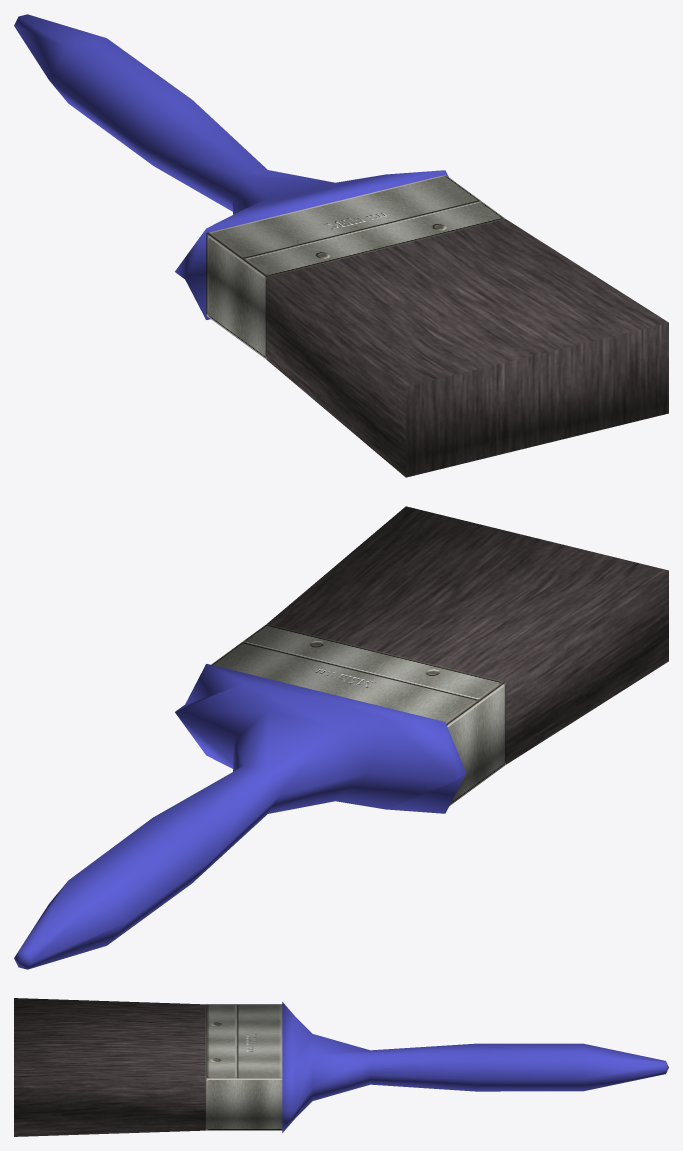
Rendered from Brush.fbx.
3 views of the same model, one above another, from view 1: azimuth 30°, elevation 25°; view 2: azimuth 150°, elevation 25°; view 3: azimuth 270°, elevation 25° (orthographic). The views are drawn at different scales.
Visible parts, largest first — view 1: Brush, BrushHandle, BrushBase; view 2: Brush, BrushHandle, BrushBase; view 3: Brush, BrushHandle, BrushBase.
Boxes of the visible parts, bbox=[...] form: Brush: bbox=[266, 219, 668, 477]; BrushHandle: bbox=[14, 14, 448, 319]; BrushBase: bbox=[206, 174, 505, 359]; Brush: bbox=[267, 506, 668, 764]; BrushHandle: bbox=[14, 664, 466, 969]; BrushBase: bbox=[211, 624, 505, 805]; Brush: bbox=[14, 998, 205, 1136]; BrushHandle: bbox=[282, 1002, 668, 1132]; BrushBase: bbox=[205, 1004, 282, 1130].
Bounding box in the file's own units: 13.97 × 4.35 × 44.44.
